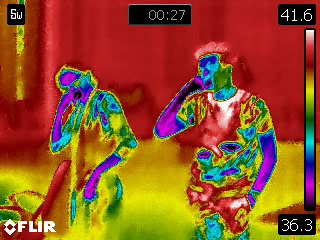human: (154, 39, 279, 240), (46, 61, 141, 240)
